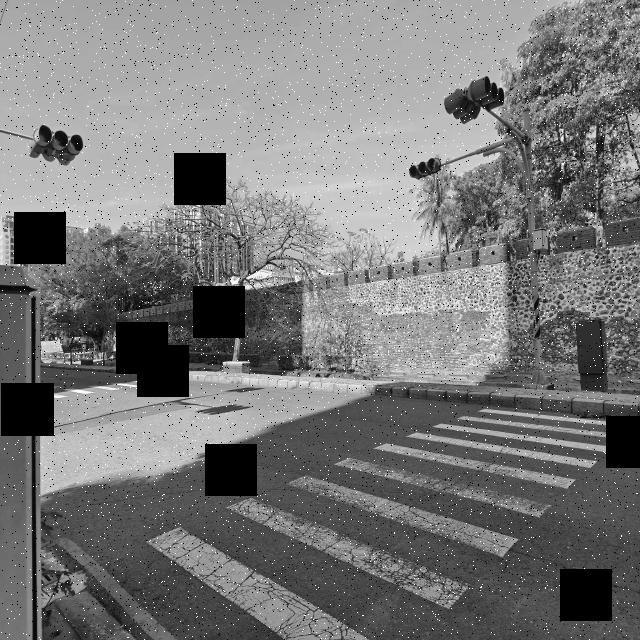zebra_crossing: (152, 405, 634, 640), (39, 376, 175, 401)
